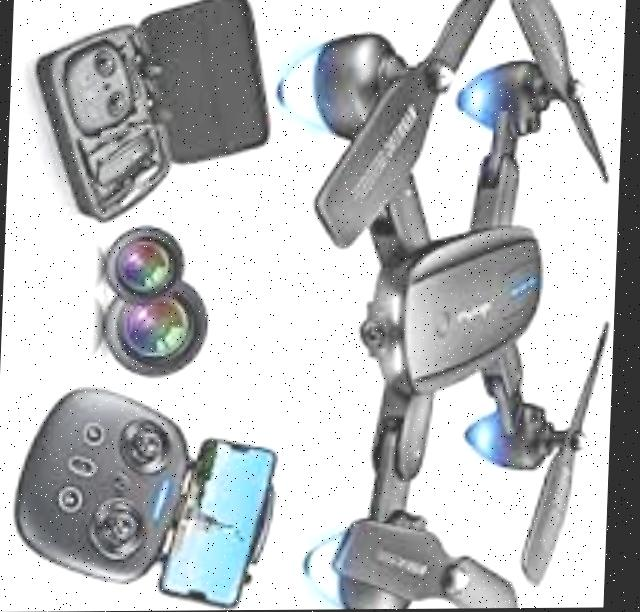drone: (254, 0, 625, 610)
